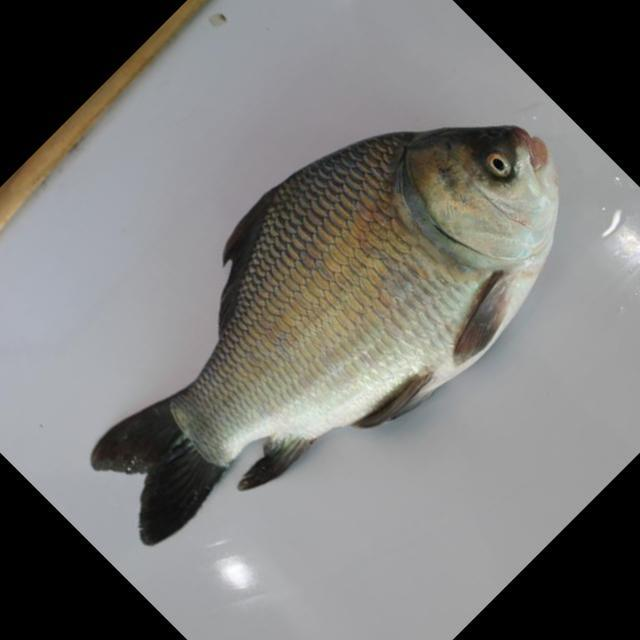Catla: (86, 120, 591, 548)
